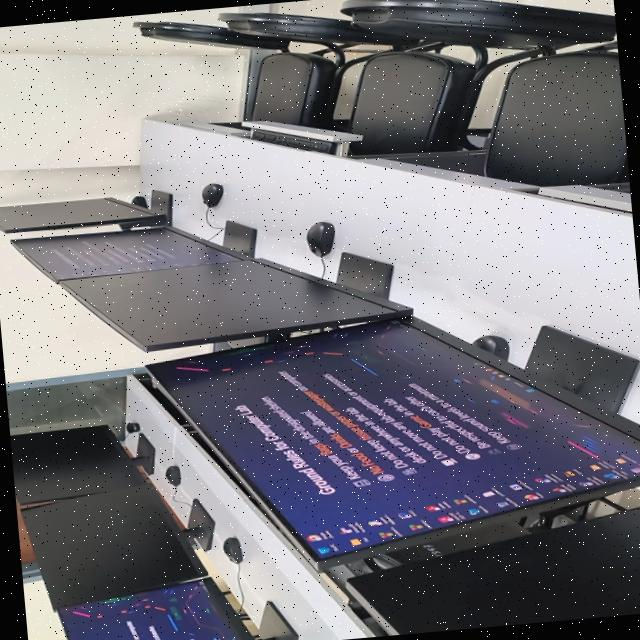Chair: (340, 0, 629, 186), (217, 13, 531, 155), (133, 22, 370, 132)
Monitor: (146, 319, 640, 566), (348, 506, 640, 635), (60, 260, 410, 351), (21, 484, 203, 609), (11, 228, 244, 282), (57, 580, 245, 640), (9, 425, 144, 504), (0, 198, 158, 233)
Mouse: (305, 221, 332, 258), (471, 336, 508, 360), (199, 183, 222, 208), (222, 537, 241, 564), (164, 465, 179, 486), (132, 196, 146, 208), (124, 422, 138, 433)
